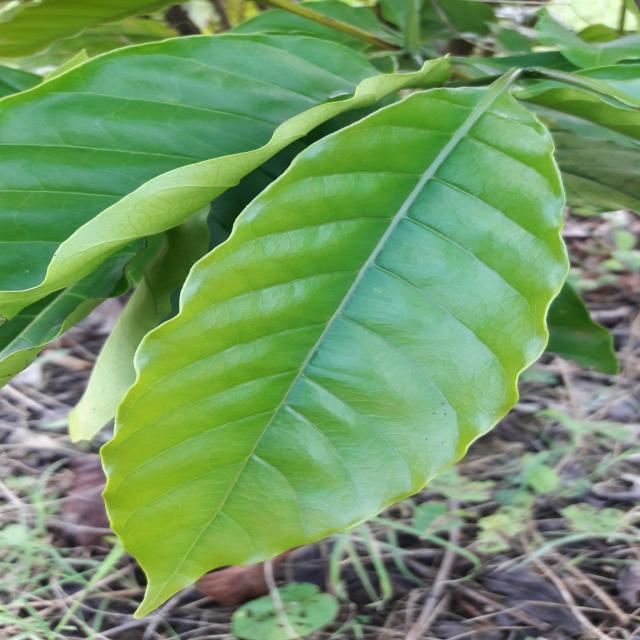Sanas: (98, 88, 569, 618)
